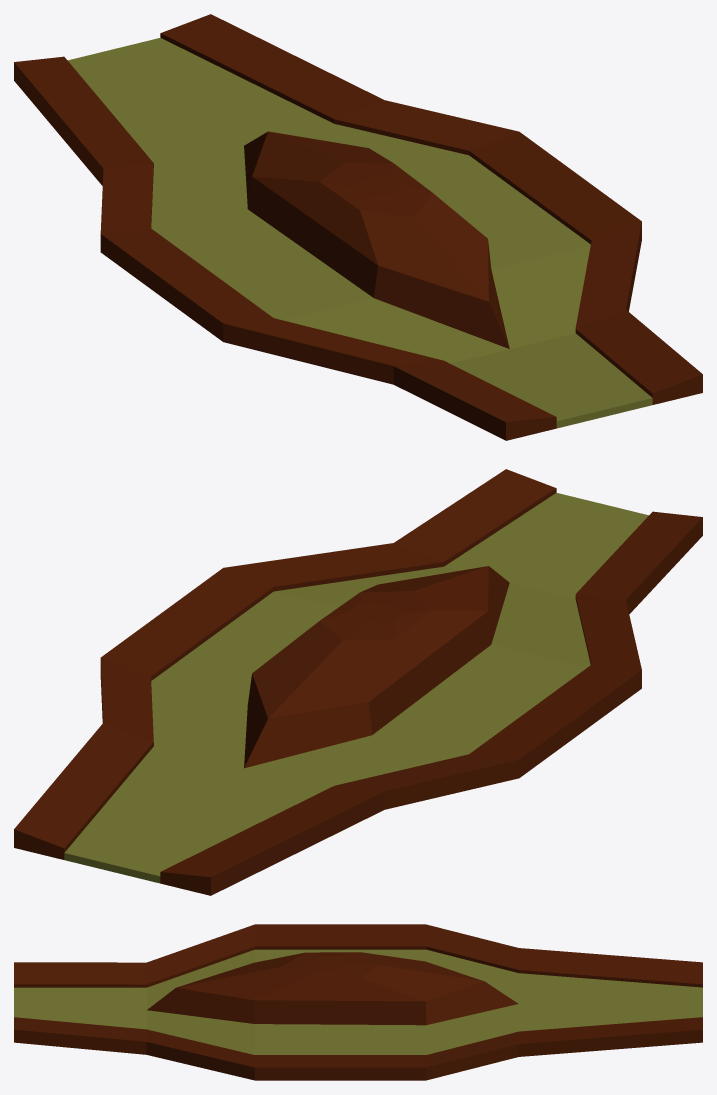
Rendered from Division.fbx.
The picture shows the model from 3 angles, top to bottom: view 1: azimuth 30°, elevation 25°; view 2: azimuth 150°, elevation 25°; view 3: azimuth 270°, elevation 25°; orthographic projection. The views are drawn at different scales.
Parts seen in each view (by area): view 1: Division; view 2: Division; view 3: Division.
Boxes of the visible parts, <box> form: Division: <box>14,14,702,440</box>; Division: <box>14,469,702,895</box>; Division: <box>14,924,702,1080</box>.
Bounding box in the file's own units: 6099 × 12417 × 1025.
